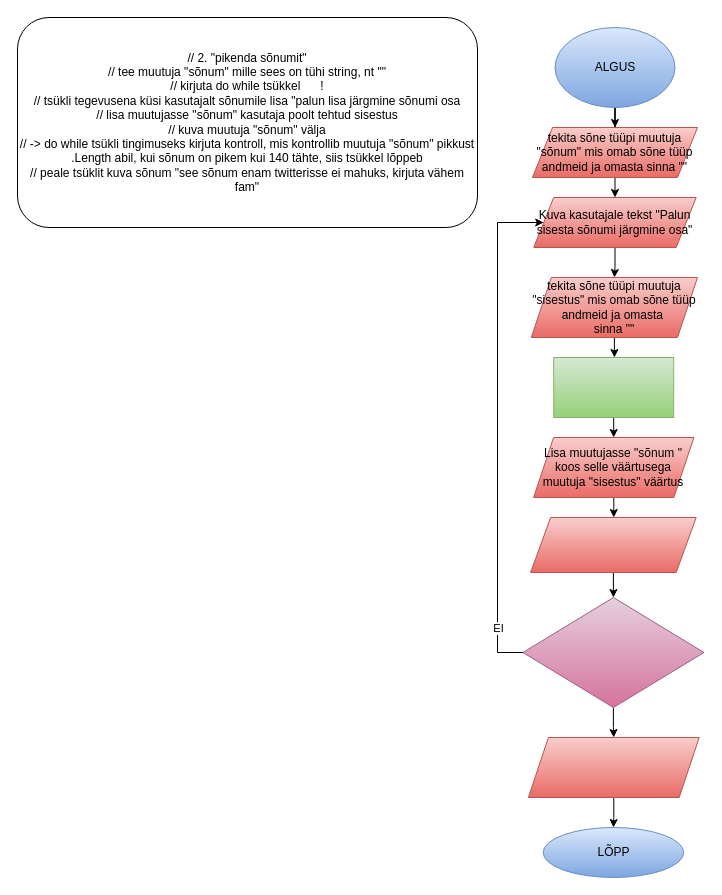
The diagram is 722 pixels wide and 895 high, and some of its shapes have lost their labels. The shapes that lost their labels are listed below. From the top down, each one's centre as x and y in pixels, then its label:
point (613, 387): Oota kuni kasutaja sisestab midagi käsureale
point (613, 544): Kuva kasutajale muutujas "sõnum" asuv väärtus
point (613, 652): Kas muutujas "sõnum" asuv väärtus on pikem kui 140 tähemärki ?
point (613, 767): Kuva kasutajale tekst "see sõnum enam twitterisse ei mahuks, kirjuta vähem fam"
